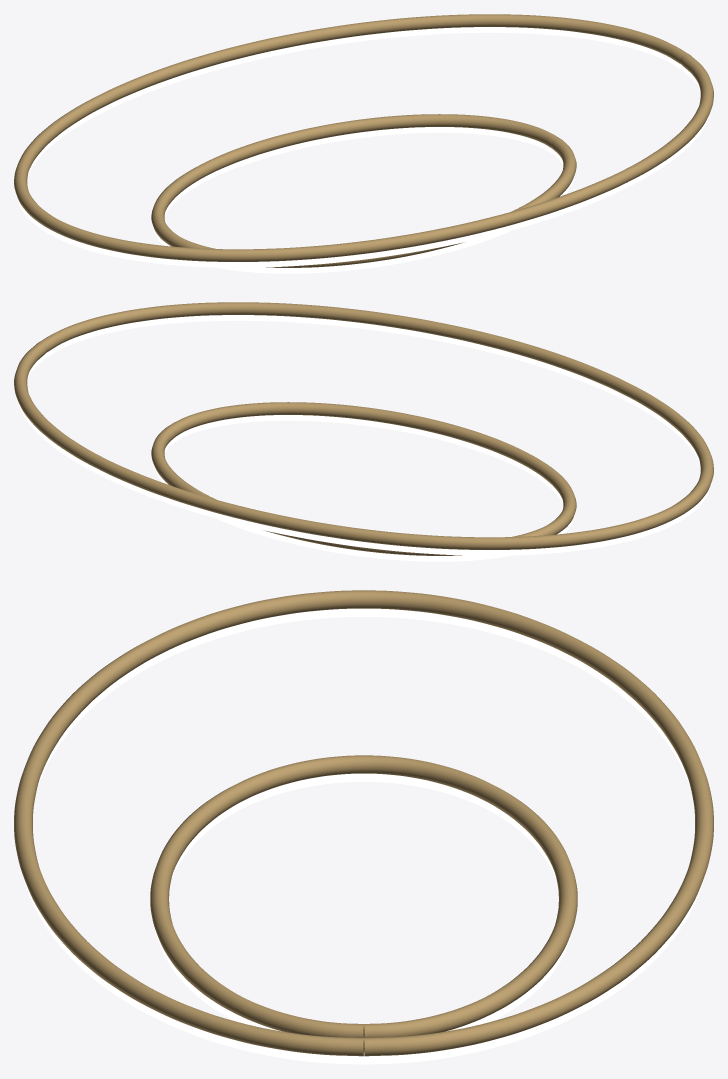
The model's file is finish_v25_beauty_oval.glb.
The picture shows the model from 3 angles, top to bottom: view 1: azimuth 30°, elevation 25°; view 2: azimuth 150°, elevation 25°; view 3: azimuth 270°, elevation 25°; orthographic projection. The views are drawn at different scales.
Parts seen in each view (by area): view 1: finish_v25_beauty_oval_Satin_champagne, finish_v25_beauty_oval_V25_opal_light; view 2: finish_v25_beauty_oval_Satin_champagne, finish_v25_beauty_oval_V25_opal_light; view 3: finish_v25_beauty_oval_Satin_champagne, finish_v25_beauty_oval_V25_opal_light.
Boxes of the visible parts, <box> form: finish_v25_beauty_oval_Satin_champagne: <box>14,14,713,267</box>; finish_v25_beauty_oval_V25_opal_light: <box>16,27,711,273</box>; finish_v25_beauty_oval_Satin_champagne: <box>14,302,713,555</box>; finish_v25_beauty_oval_V25_opal_light: <box>16,315,711,561</box>; finish_v25_beauty_oval_Satin_champagne: <box>14,590,713,1056</box>; finish_v25_beauty_oval_V25_opal_light: <box>21,608,706,1064</box>.
Size of the model in its own units: 2.85 by 0.2909 by 1.85.
